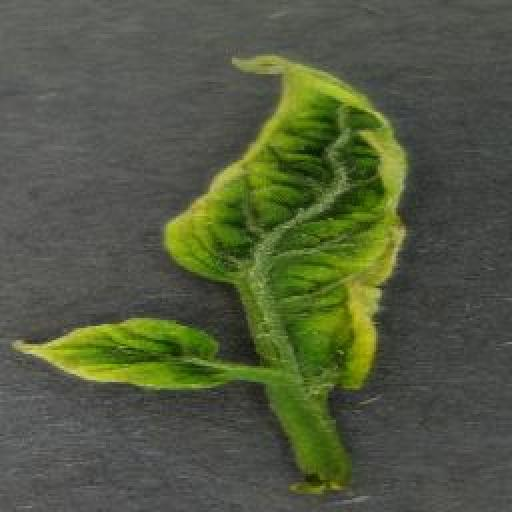disease_tomato: (160, 53, 408, 395), (10, 318, 226, 394)
